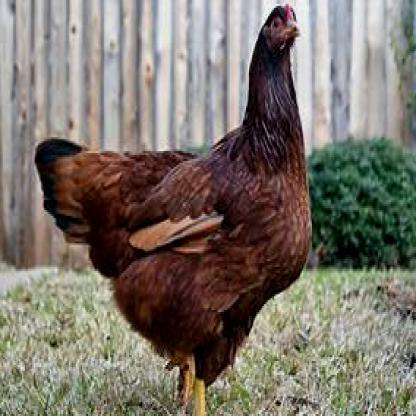chicken: (32, 2, 316, 414)
